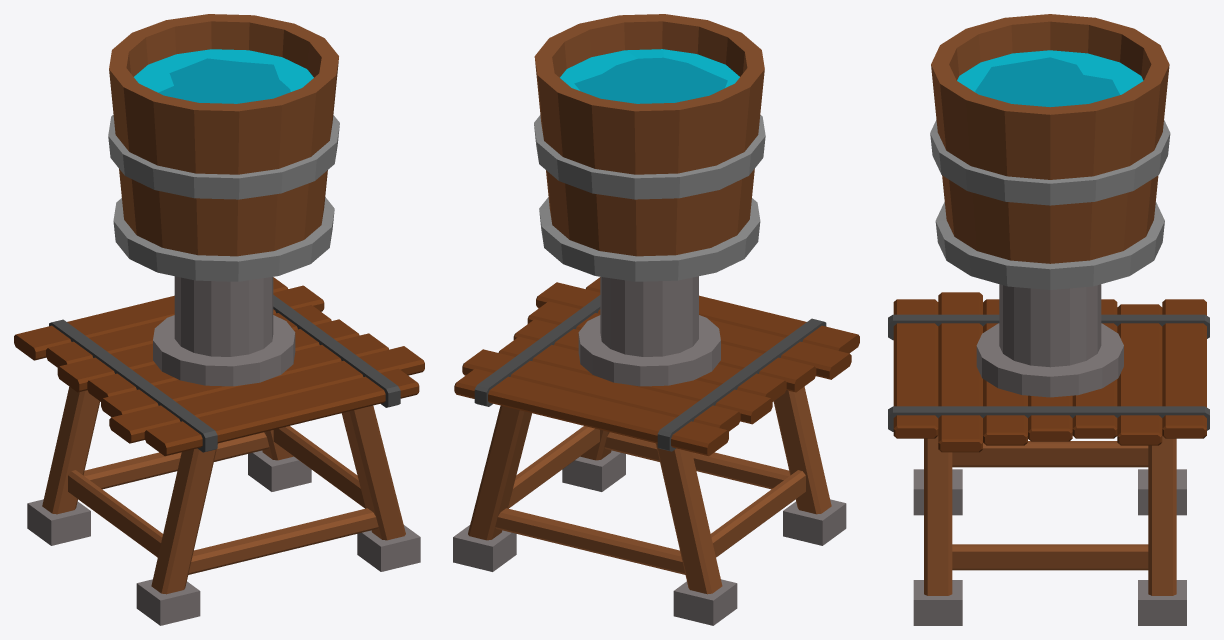
The model's file is EconomyBuilding.fbx.
The picture shows the model from 3 angles, left to right: view 1: azimuth 30°, elevation 25°; view 2: azimuth 150°, elevation 25°; view 3: azimuth 270°, elevation 25°; orthographic projection. The views are drawn at different scales.
Parts seen in each view (by area): view 1: EconomyBuilding; view 2: EconomyBuilding; view 3: EconomyBuilding.
Boxes of the visible parts, x1,y1,x2,y2 form: EconomyBuilding: (14,14,424,625); EconomyBuilding: (453,14,859,625); EconomyBuilding: (888,14,1209,625).
Bounding box in the file's own units: 10.58 × 16.58 × 9.74.
